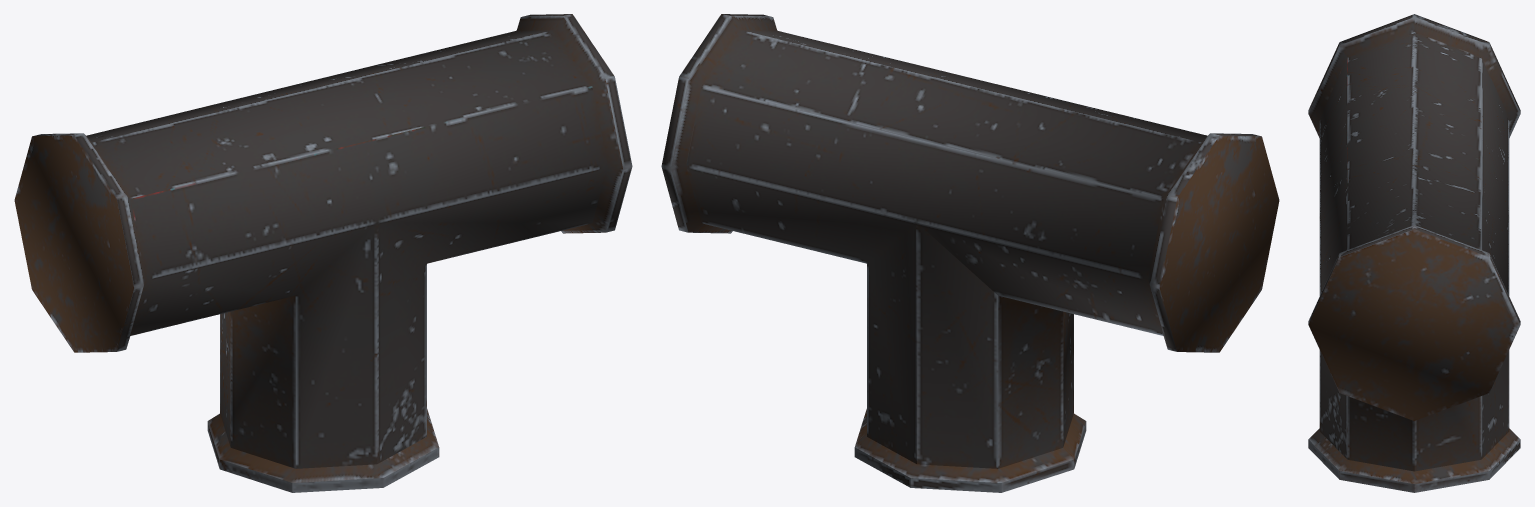
The model's file is pipe_t.gltf.
3 views of the same model, side by side, from view 1: azimuth 30°, elevation 25°; view 2: azimuth 150°, elevation 25°; view 3: azimuth 270°, elevation 25° (orthographic). The views are drawn at different scales.
Parts seen in each view (by area): view 1: Cylinder.015; view 2: Cylinder.015; view 3: Cylinder.015.
Boxes of the visible parts, <box> form: Cylinder.015: <box>14,14,632,492</box>; Cylinder.015: <box>661,14,1279,492</box>; Cylinder.015: <box>1308,14,1520,492</box>.
Size of the model in its own units: 6 by 4.25 by 2.5.
1 material, 1 textured.
